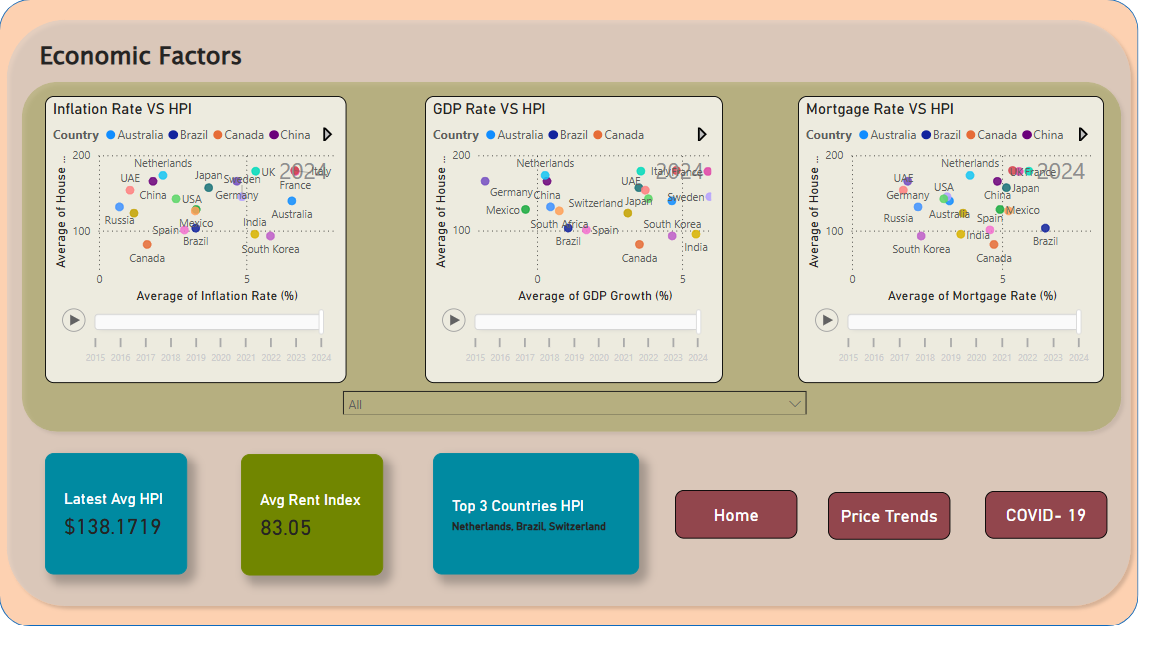

Layout of this report page (visuals, bound fields, positions):
{"tool":"powerbi","page":{"name":"Economic Factors","canvas":[1280,720],"ordinal":2},"visuals":[{"type":"shape","box":[0,18.2,1266.4,698],"z":0},{"type":"shape","box":[0,32.5,1266.2,668.8],"z":1000},{"type":"textbox","box":[40,55,858.8,91.2],"z":2000},{"type":"shape","box":[16.2,101.2,1238.8,406.2],"z":3000},{"type":"scatterChart","title":"Inflation Rate VS HPI","fields":{"X":["House_Market_Price.Inflation Rate (%)"],"Y":["House_Market_Price.House Price Index"],"Play":["House_Market_Price.Year"],"Series":["House_Market_Price.Country"]},"box":[51.2,125,335,318.8],"z":4000},{"type":"scatterChart","title":"GDP Rate VS HPI","fields":{"Y":["House_Market_Price.House Price Index"],"Play":["House_Market_Price.Year"],"Series":["House_Market_Price.Country"],"X":["House_Market_Price.GDP Growth (%)"]},"box":[473.8,125,331.2,318.8],"z":5000},{"type":"scatterChart","title":"Mortgage Rate VS HPI","fields":{"Y":["House_Market_Price.House Price Index"],"Play":["House_Market_Price.Year"],"Series":["House_Market_Price.Country"],"X":["Avg(House_Market_Price.Mortgage Rate (%))"]},"box":[887.5,125,340,318.8],"z":6000},{"type":"slicer","fields":{"Values":["House_Market_Price.Country"]},"box":[372.5,443.8,535,36.2],"z":7000},{"type":"actionButton","box":[751.2,563.8,136.2,53.8],"z":8000},{"type":"actionButton","box":[921.2,565,136.2,52.5],"z":9000},{"type":"actionButton","box":[1095.9,563.9,135.7,52.9],"z":10000},{"type":"cardVisual","fields":{"Data":["House_Market_Price.Latest Avg HPI"]},"box":[51.2,522.5,157.5,135],"z":11000},{"type":"cardVisual","fields":{"Data":["House_Market_Price.Avg Rent Index"]},"box":[268.8,523.8,157.5,135],"z":12000},{"type":"cardVisual","fields":{"Data":["House_Market_Price.Top 3 Countries HPI"]},"box":[482.5,522.5,228.8,135],"z":13000}]}

Visuals, with their boxes in screenshot pixels (x1, y1, x2, y2), scaled from the page's 1280x720 canvas onto the 1152x648 screenshot:
shape: rect(0, 16, 1140, 645)
shape: rect(0, 29, 1140, 631)
textbox: rect(36, 50, 809, 132)
shape: rect(15, 91, 1130, 457)
"Inflation Rate VS HPI" scatterChart: rect(46, 112, 348, 399)
"GDP Rate VS HPI" scatterChart: rect(426, 112, 724, 399)
"Mortgage Rate VS HPI" scatterChart: rect(799, 112, 1105, 399)
slicer - House_Market_Price.Country: rect(335, 399, 817, 432)
actionButton: rect(676, 507, 799, 556)
actionButton: rect(829, 508, 952, 556)
actionButton: rect(986, 508, 1108, 555)
cardVisual - House_Market_Price.Latest Avg HPI: rect(46, 470, 188, 592)
cardVisual - House_Market_Price.Avg Rent Index: rect(242, 471, 384, 593)
cardVisual - House_Market_Price.Top 3 Countries HPI: rect(434, 470, 640, 592)
